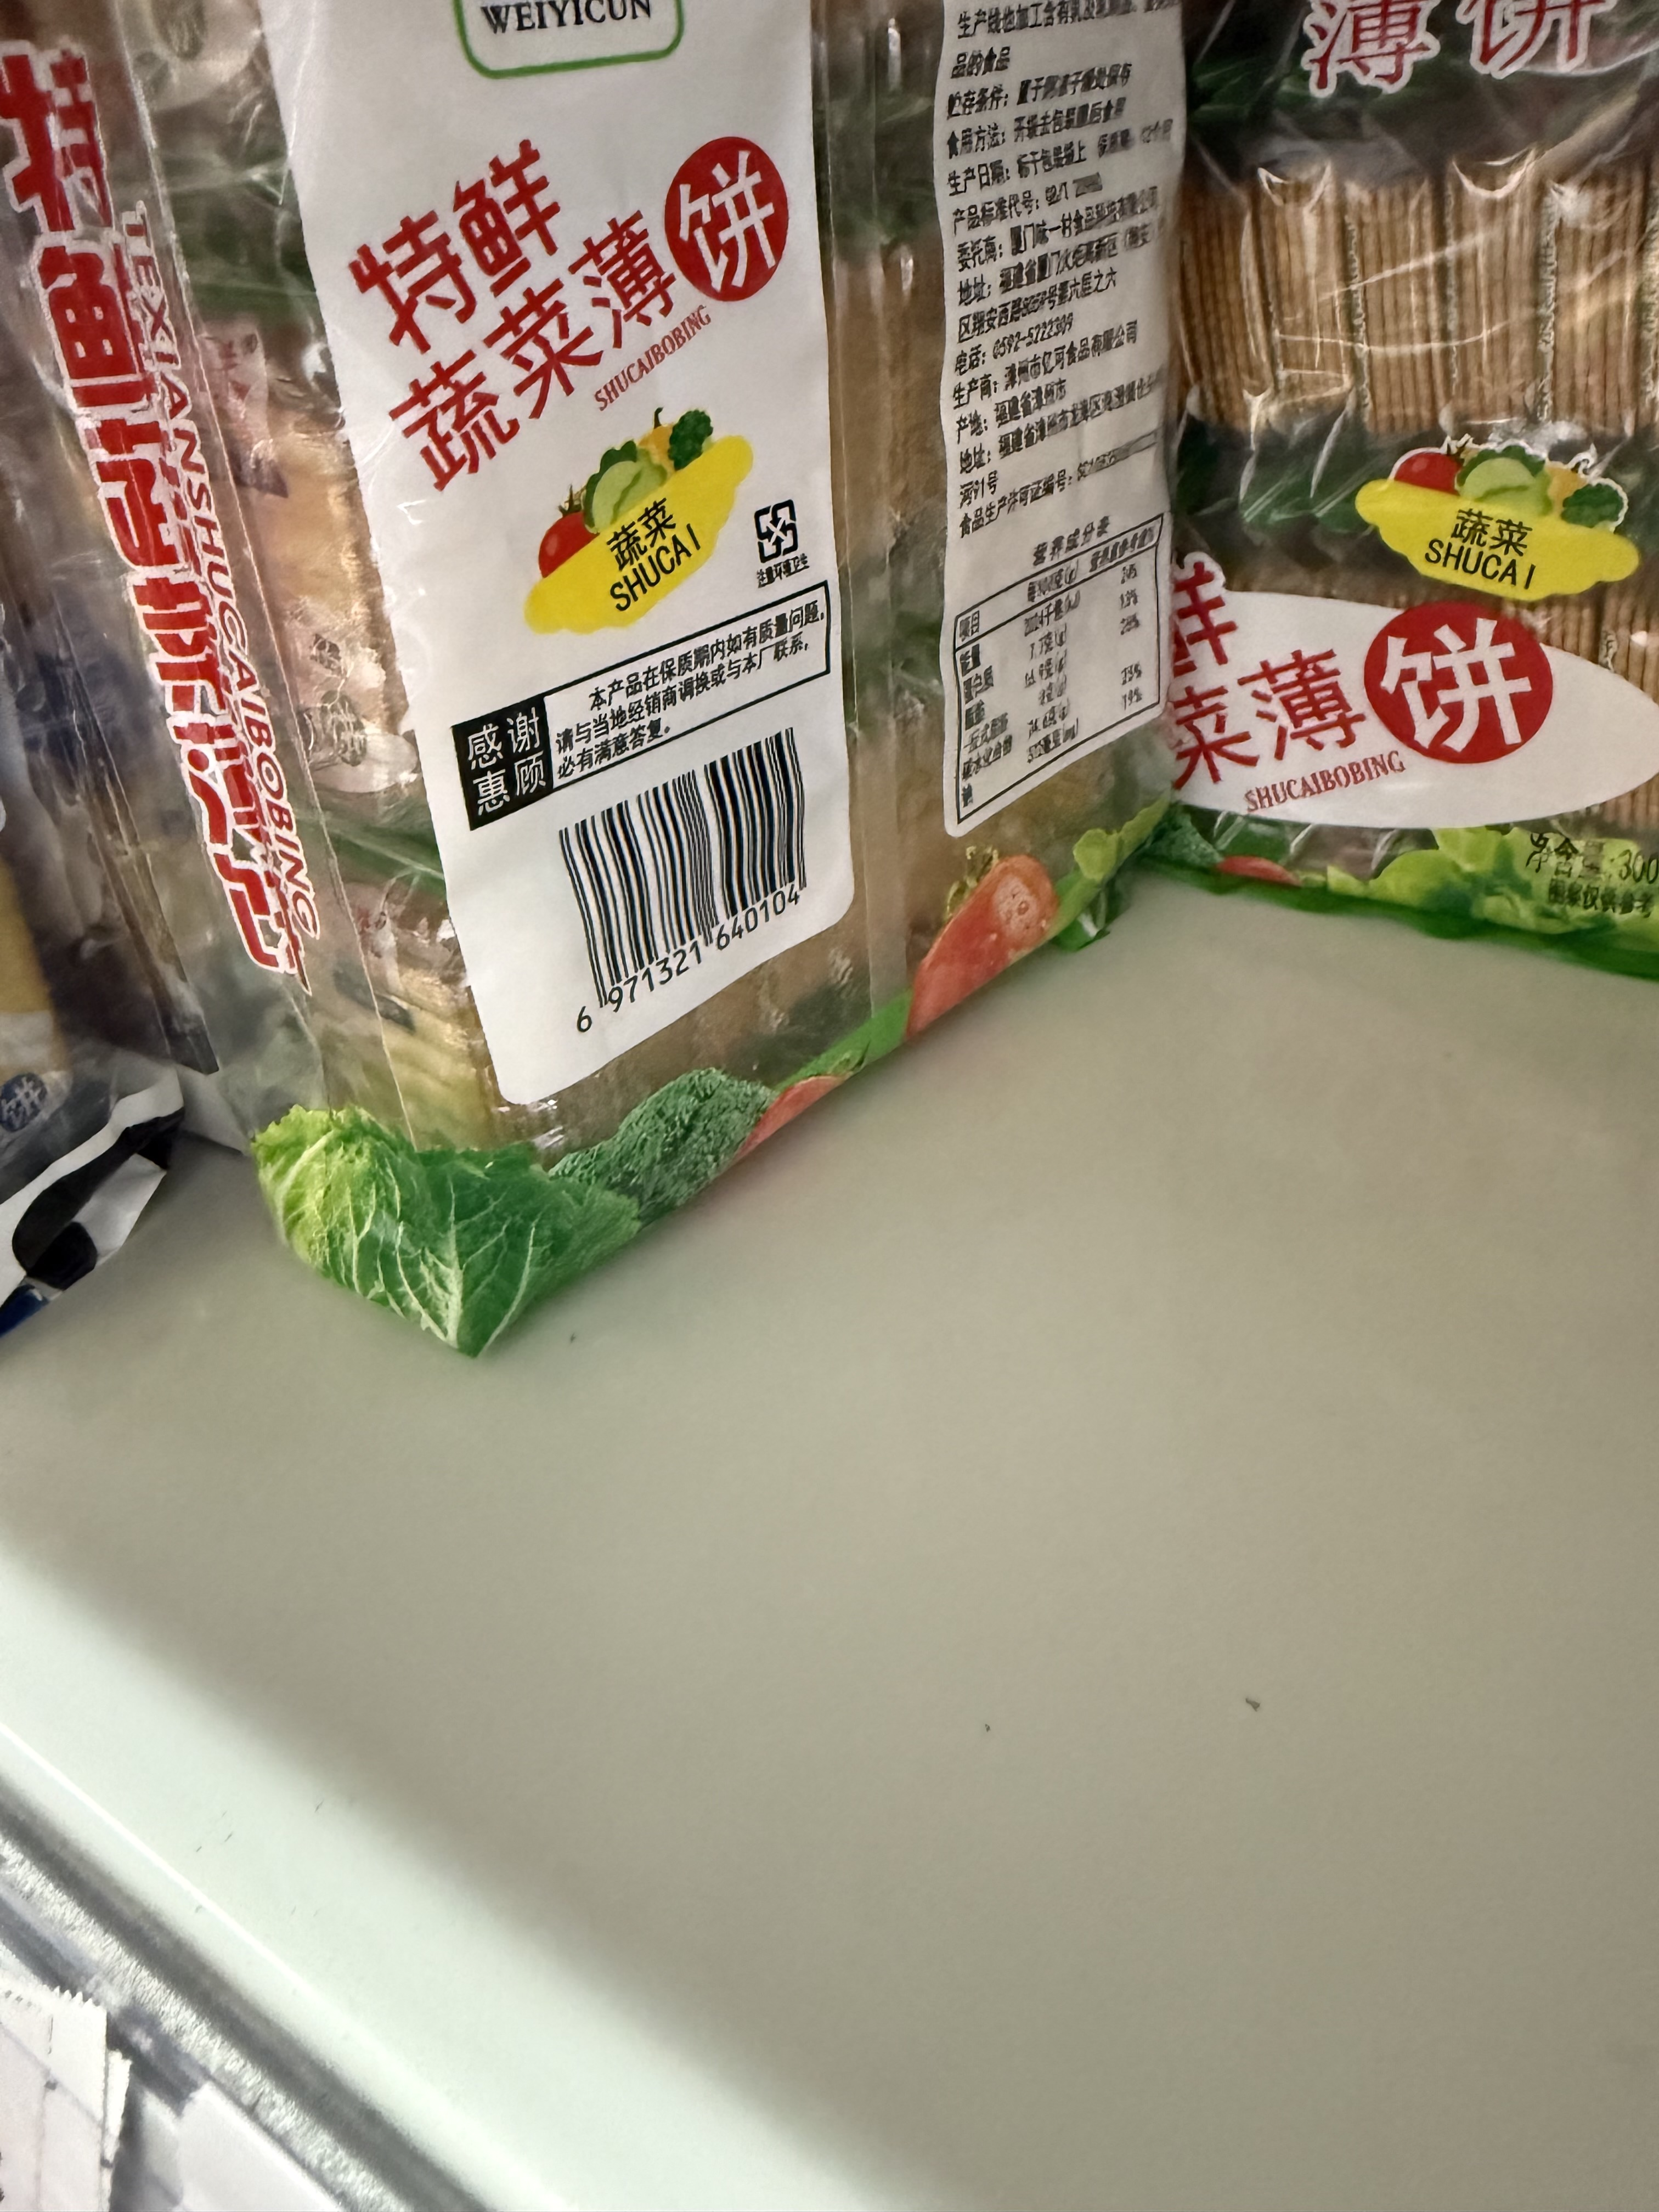bar: (549, 725, 819, 1015)
